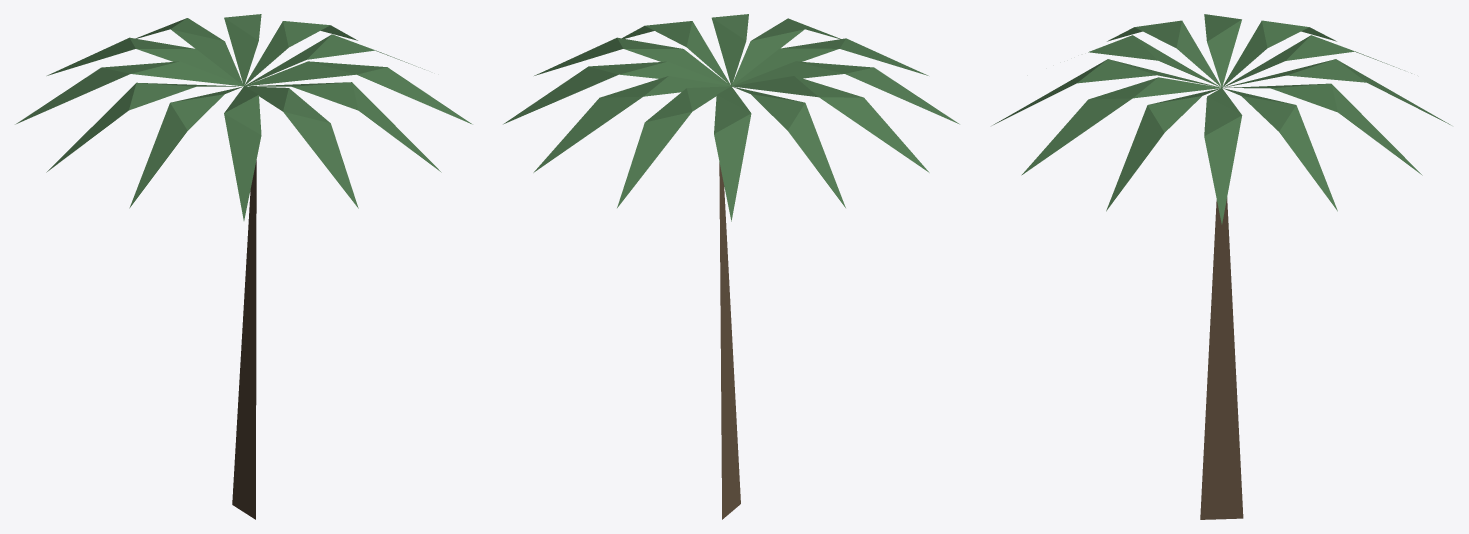
Rendered from Palm.fbx.
The picture shows the model from 3 angles, left to right: view 1: azimuth 30°, elevation 25°; view 2: azimuth 150°, elevation 25°; view 3: azimuth 270°, elevation 25°; orthographic projection.
Visible parts, largest first — view 1: Palm_LOD; view 2: Palm_LOD; view 3: Palm_LOD.
Boxes of the visible parts, <box> form: Palm_LOD: <box>15,14,472,519</box>; Palm_LOD: <box>503,14,959,519</box>; Palm_LOD: <box>992,14,1451,519</box>.
Size of the model in its own units: 7.82 by 8.39 by 7.82.
